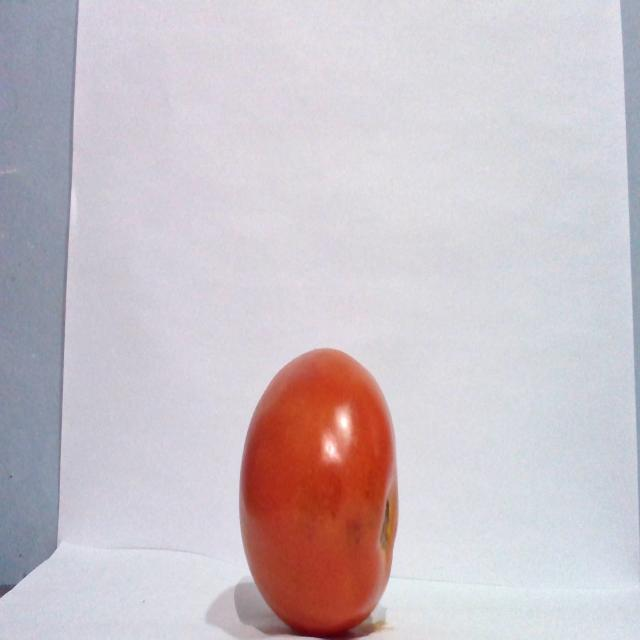Red: (237, 346, 399, 636)
